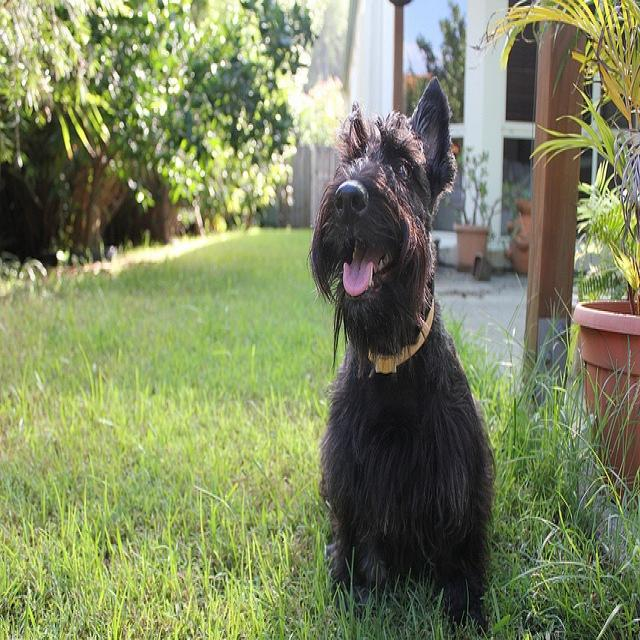dog: (307, 73, 493, 630)
